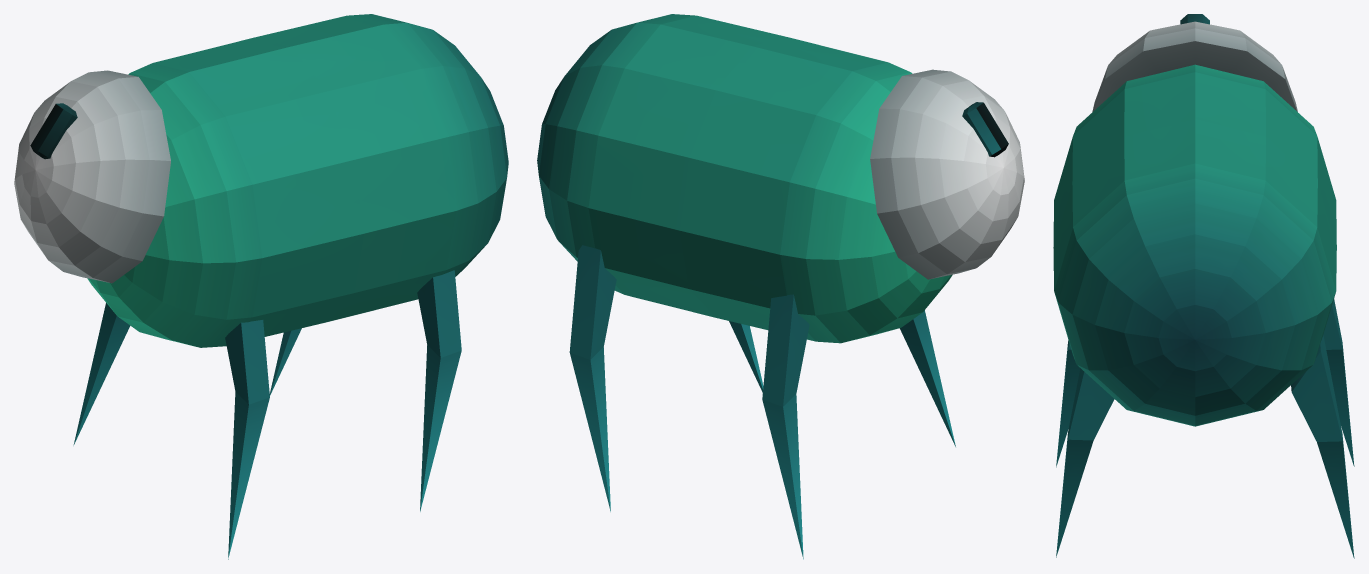
File: looker.fbx
3 views of the same model, side by side, from view 1: azimuth 30°, elevation 25°; view 2: azimuth 150°, elevation 25°; view 3: azimuth 270°, elevation 25° (orthographic). The views are drawn at different scales.
Parts seen in each view (by area): view 1: polySurface23; view 2: polySurface23; view 3: polySurface23.
Part boxes in pixels (box(x1,y1,x2,y2)): polySurface23: box(14, 14, 508, 559); polySurface23: box(537, 14, 1024, 559); polySurface23: box(1053, 14, 1354, 558).
Size of the model in its own units: 1.67 by 1.53 by 0.9886.
1 material, 1 textured.
